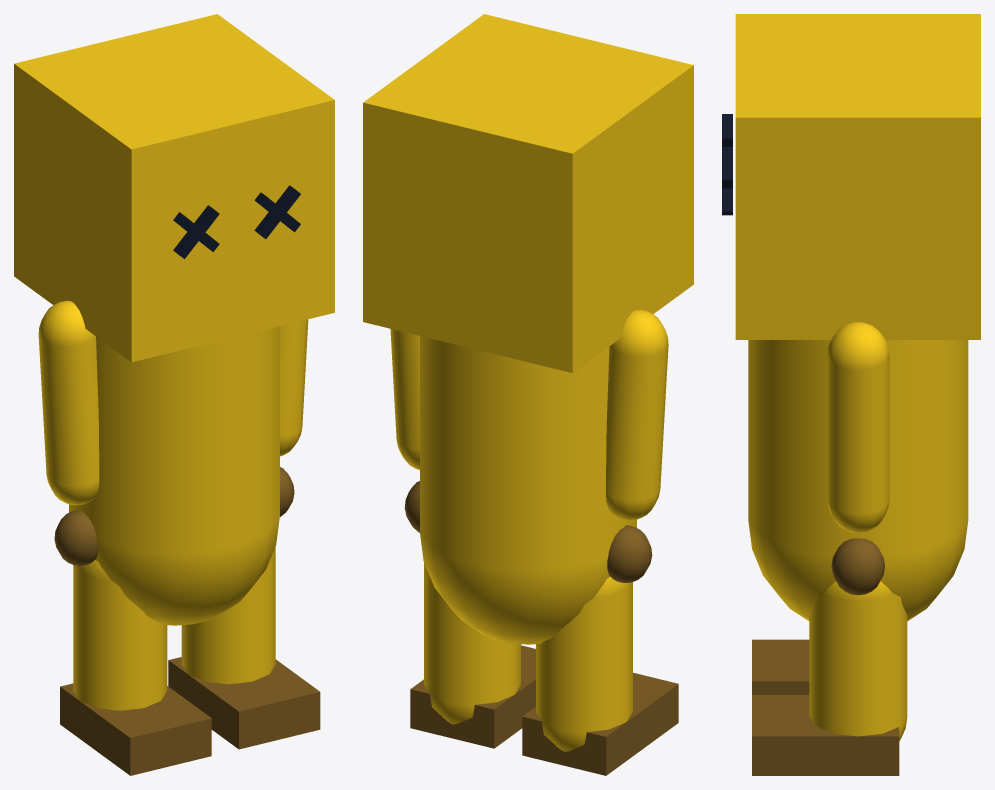
File: carrot.glb
3 views of the same model, side by side, from view 1: azimuth 30°, elevation 25°; view 2: azimuth 150°, elevation 25°; view 3: azimuth 270°, elevation 25° (orthographic). The views are drawn at different scales.
Parts seen in each view (by area): view 1: object 4, object 1, legLeft, legRight, armLeft, armRight, object 6, object 8, object 7, object 5; view 2: object 4, object 1, legLeft, legRight, armLeft, armRight; view 3: object 4, object 1, legRight, armRight, legLeft, object 7.
Boxes of the visible parts, x1,y1,x2,y2 form: object 4: (14,14,334,362); object 1: (69,326,279,625); legLeft: (60,560,211,775); legRight: (168,547,320,749); armLeft: (38,300,99,565); armRight: (280,319,308,516); object 6: (173,205,219,258); object 8: (254,185,300,238); object 7: (254,192,300,232); object 5: (173,212,219,251); object 4: (363,14,693,372); object 1: (420,336,636,644); legLeft: (522,577,678,775); legRight: (410,563,535,748); armLeft: (606,309,668,582); armRight: (390,328,419,532); object 4: (735,14,980,339); object 1: (748,340,968,621); legRight: (752,581,907,775); armRight: (827,322,889,595); legLeft: (752,639,809,694); object 7: (722,155,732,215).
Size of the model in its own units: 1.17 by 2.71 by 0.95.
